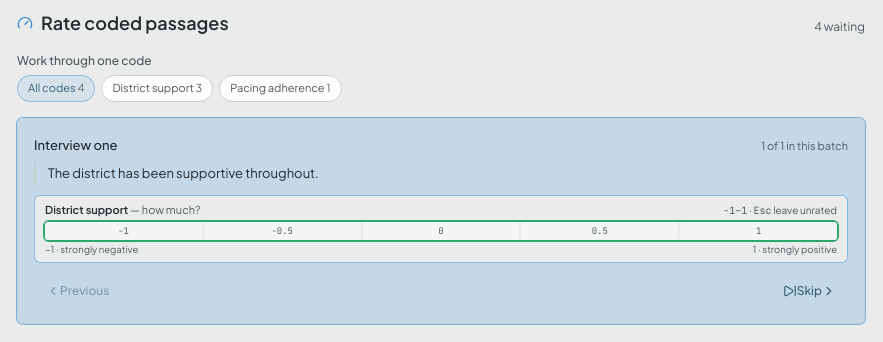
Scenario: RatingSweep — the per-code filter › 🔴 a code worked to zero keeps the chip row — it is the only way out
Click the button "Pacing adherence 1" at [280, 88], box [219,75,342,102]
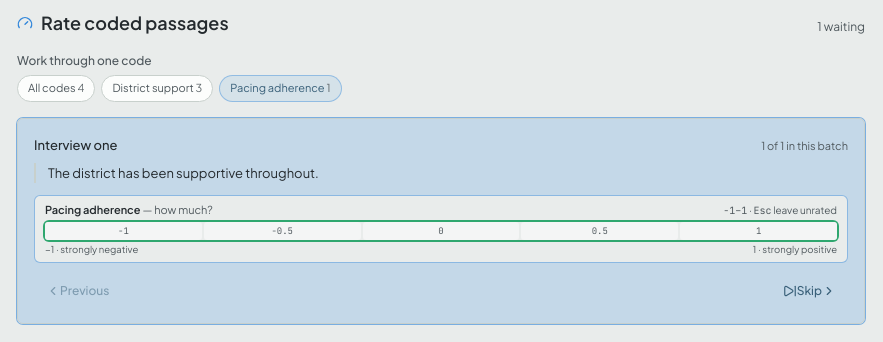
Press 1 in the element showing "−1 −0.5 0 0.5 1", box [45,222,837,240]
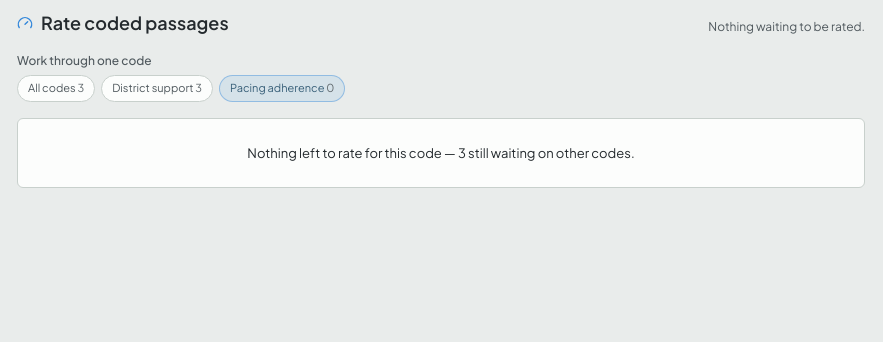
expect the button "All codes 3" is shown: met, box [17,75,95,102]
expect the button "Pacing adherence 0" is shown: met, box [219,75,345,102]
